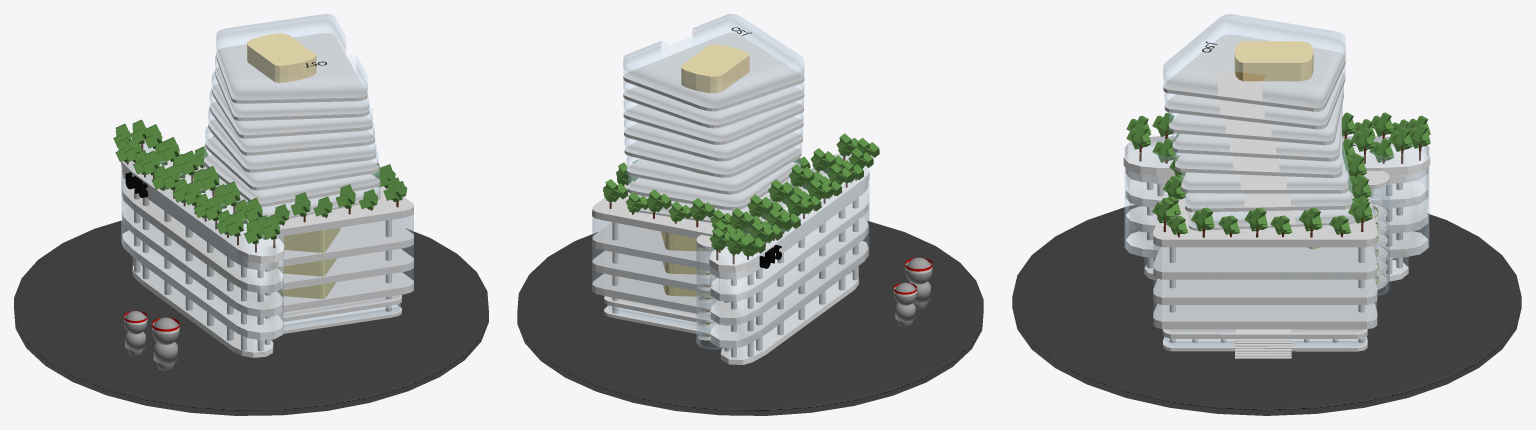
File: uts.glb
3 views of the same model, side by side, from view 1: azimuth 30°, elevation 25°; view 2: azimuth 150°, elevation 25°; view 3: azimuth 270°, elevation 25° (orthographic). The views are drawn at different scales.
Visible parts, largest first — view 1: Cylinder.028, Cube.013, Cube.035, Cube.050, Cube.037, Cube.006, Cube.004, Cube.009, Cube.014, Cube.020, Cube.041, Cube.025 (+26 smaller); view 2: Cylinder.028, Cube.013, Cube.035, Cube.050, Cube.037, Cube.006, Cube.004, Cube.009, Cube.032, Cube.020, Cube.031, Cube.026 (+27 smaller); view 3: Cylinder.028, Cube.050, Cube.035, Cube.013, Cube.041, Cube.037, Cube.040, Cube.038, Cube.042, Cube.032, Cube.031, Cube.026 (+25 smaller).
Boxes of the visible parts, x1,y1,x2,y2 form: Cylinder.028: (14, 220, 488, 415); Cube.013: (121, 142, 283, 340); Cube.035: (216, 14, 367, 100); Cube.050: (283, 210, 413, 305); Cube.037: (216, 33, 367, 103); Cube.006: (122, 207, 283, 317); Cube.004: (122, 230, 283, 340); Cube.009: (122, 185, 283, 293); Cube.014: (121, 150, 284, 263); Cube.020: (205, 136, 378, 190); Cube.041: (280, 219, 413, 266); Cube.025: (208, 119, 376, 172); Cylinder.028: (517, 221, 983, 415); Cube.013: (710, 154, 869, 347); Cube.035: (623, 14, 803, 107); Cube.050: (592, 217, 711, 312); Cube.037: (623, 32, 804, 111); Cube.006: (710, 217, 868, 325); Cube.004: (710, 240, 868, 347); Cube.009: (710, 194, 868, 301); Cube.032: (623, 86, 804, 128); Cube.020: (626, 147, 801, 194); Cube.031: (623, 101, 803, 144); Cube.026: (624, 116, 803, 161); Cylinder.028: (1012, 204, 1521, 415); Cube.050: (1153, 238, 1376, 328); Cube.035: (1163, 14, 1345, 108); Cube.013: (1124, 136, 1428, 257); Cube.041: (1153, 246, 1377, 279); Cube.037: (1163, 34, 1345, 111); Cube.040: (1153, 278, 1377, 304); Cube.038: (1153, 303, 1377, 329); Cube.042: (1153, 171, 1377, 247); Cube.032: (1164, 71, 1345, 129); Cube.031: (1169, 89, 1343, 145); Cube.026: (1172, 107, 1342, 161).
Bounding box in the file's own units: 25.24 × 15.34 × 25.24.
